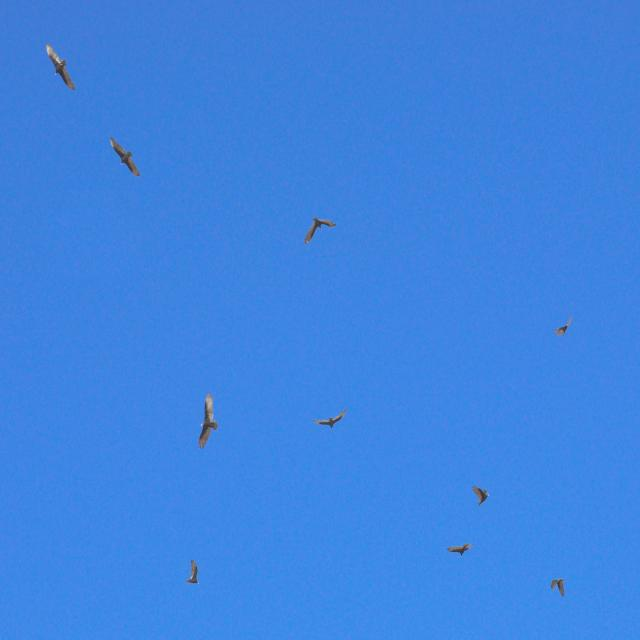bird: (44, 44, 76, 92), (110, 136, 143, 182), (196, 390, 219, 450), (302, 215, 336, 245), (312, 407, 347, 430), (445, 543, 473, 558), (471, 486, 491, 506), (185, 562, 201, 586), (553, 316, 572, 336), (549, 578, 567, 598)
